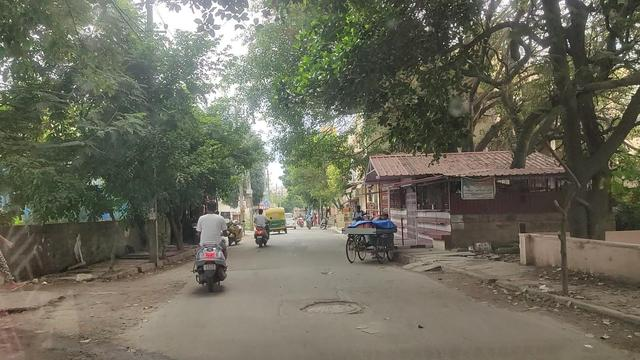LMV: (199, 192, 234, 297)
RoadDamages: (75, 310, 170, 345), (294, 295, 363, 320), (137, 276, 185, 306)
